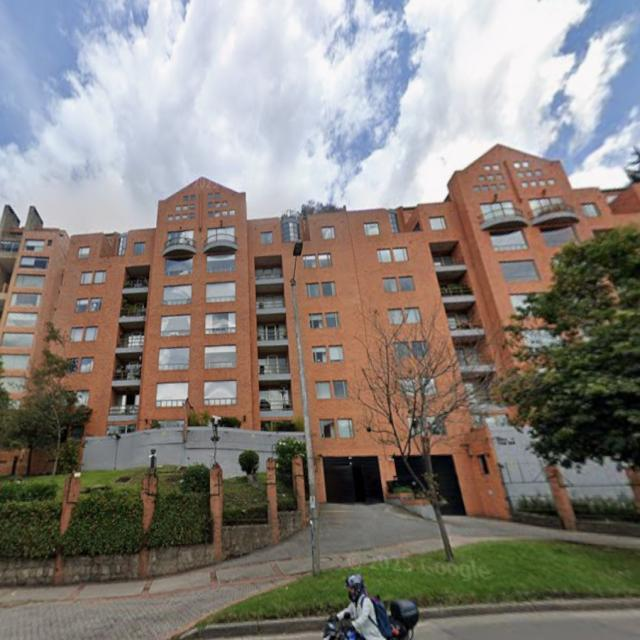fachada: (0, 146, 639, 500)
poste: (292, 272, 320, 575)
